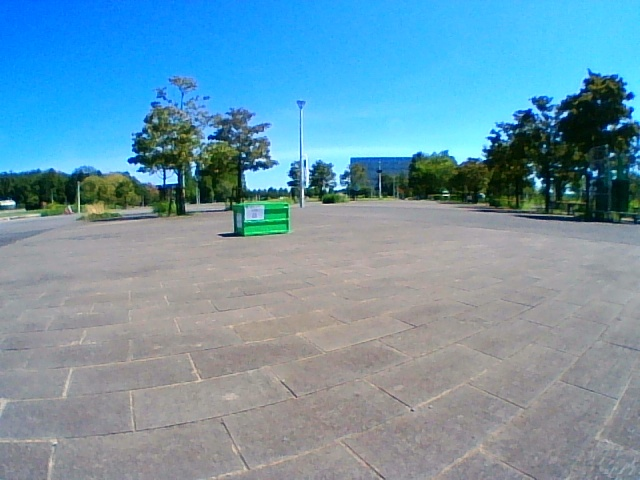green_box: (232, 202, 288, 235)
tag: (244, 206, 262, 220)
